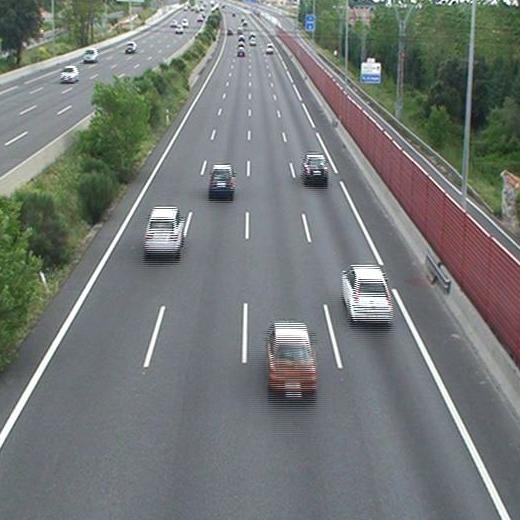car: (266, 324, 316, 396), (341, 266, 392, 323), (145, 206, 182, 256), (209, 164, 234, 195), (303, 155, 329, 181), (266, 43, 274, 53), (249, 36, 257, 46), (237, 47, 245, 56)
